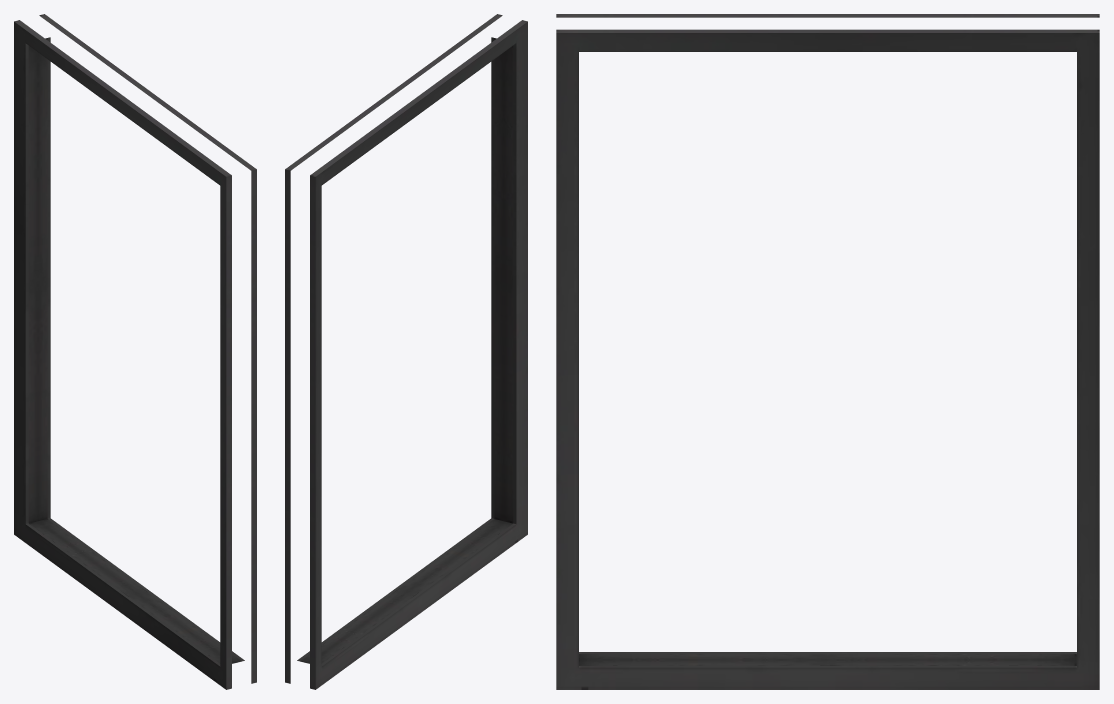
3 views of the same model, side by side, from view 1: azimuth 30°, elevation 25°; view 2: azimuth 150°, elevation 25°; view 3: azimuth 270°, elevation 25° (orthographic). The views are drawn at different scales.
Parts seen in each view (by area): view 1: body0_model0_lod0_mesh0; view 2: body0_model0_lod0_mesh0; view 3: body0_model0_lod0_mesh0.
Part boxes in pixels (bbox=[...]): body0_model0_lod0_mesh0: bbox=[14, 14, 256, 689]; body0_model0_lod0_mesh0: bbox=[285, 14, 527, 689]; body0_model0_lod0_mesh0: bbox=[556, 14, 1099, 689].
Size of the model in its own units: 8 by 128 by 96.
1 material, 1 textured.
